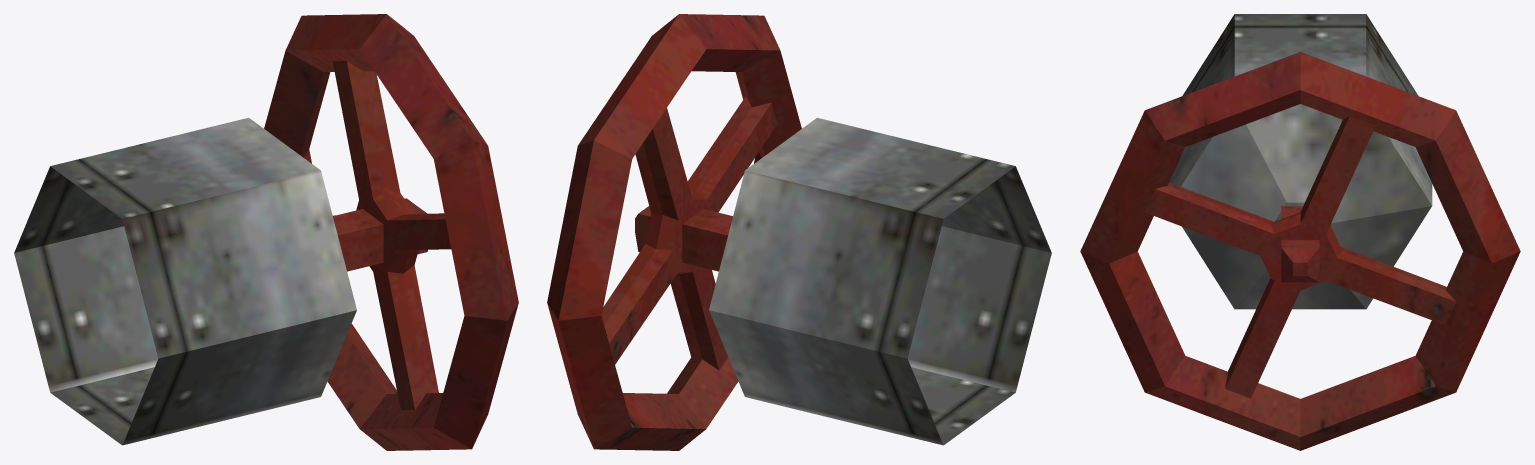
File: valve_red_end_piece.fbx
3 views of the same model, side by side, from view 1: azimuth 30°, elevation 25°; view 2: azimuth 150°, elevation 25°; view 3: azimuth 270°, elevation 25° (orthographic). The views are drawn at different scales.
Parts seen in each view (by area): view 1: valve_red_end_piece; view 2: valve_red_end_piece; view 3: valve_red_end_piece.
Boxes of the visible parts, x1=… form: valve_red_end_piece: x1=14, y1=14, x2=518, y2=450; valve_red_end_piece: x1=547, y1=14, x2=1051, y2=450; valve_red_end_piece: x1=1080, y1=14, x2=1520, y2=450.
Bounding box in the file's own units: 33.99 × 41.67 × 41.67.
2 materials, 2 textured.
